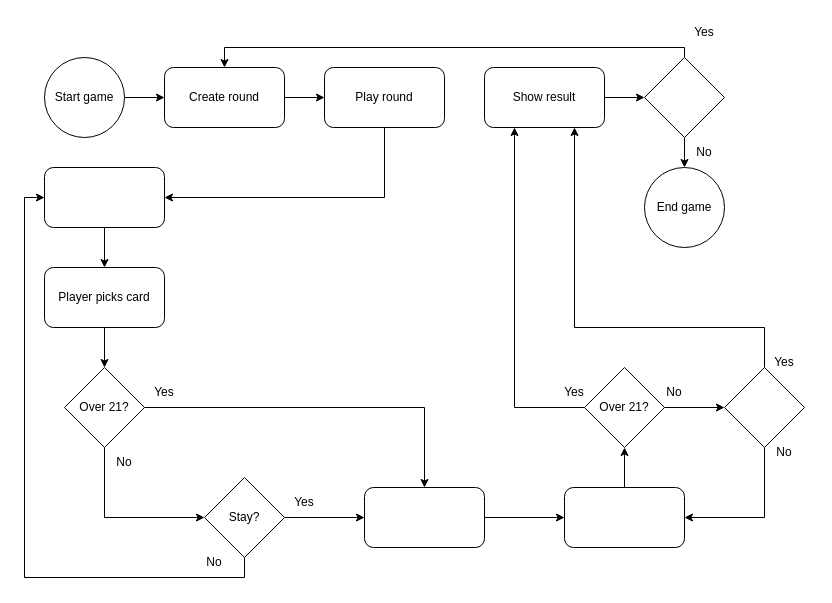
This 832x603 diagram has some shape labels left out. Each missing label, with the centre of its shape:
"Bank picks card" belongs at (624,517).
"Bank's turn" belongs at (424,517).
"Over 17?" belongs at (764,407).
"Play again?" belongs at (684,97).
"Show field" belongs at (104,197).
